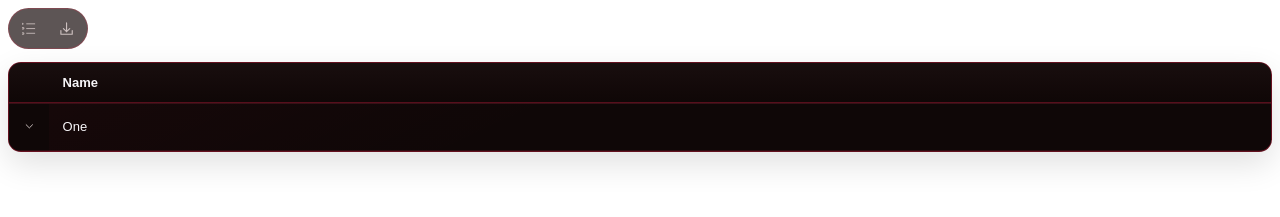
Test: secondary feedback contract audit › offers reset when only row density or details changed and restores both
The width and height of the screenshot is (1280, 217).
Click the button named "Компактные строки" at {"x": 29, "y": 29}, box [11,11,46,46]
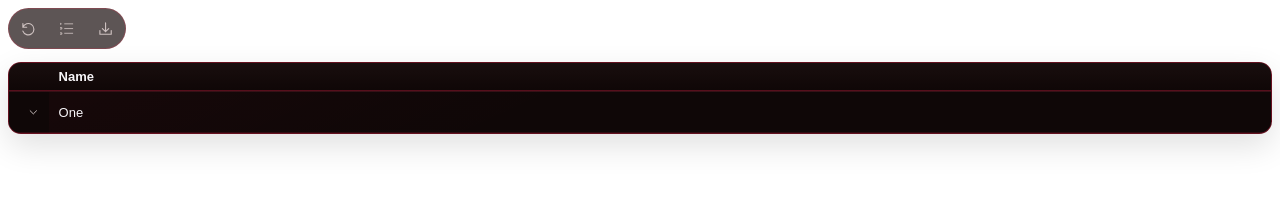
Now the button named "Сбросить вид" is shown, box [11,11,46,46]
Click the button named "Подробности строки 1" at {"x": 33, "y": 112}, box [19,98,47,127]
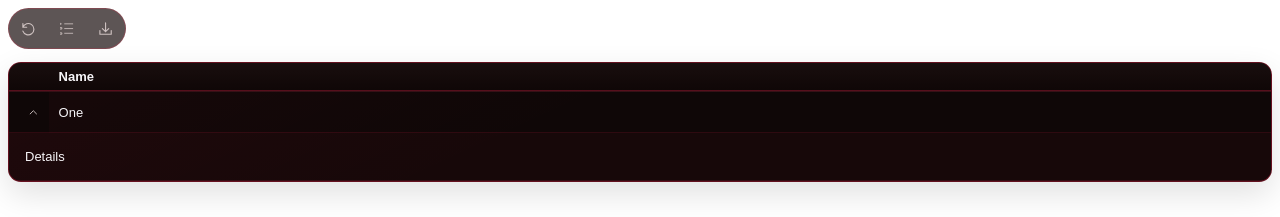
Click the button named "Сбросить вид" at {"x": 29, "y": 29}, box [11,11,46,46]
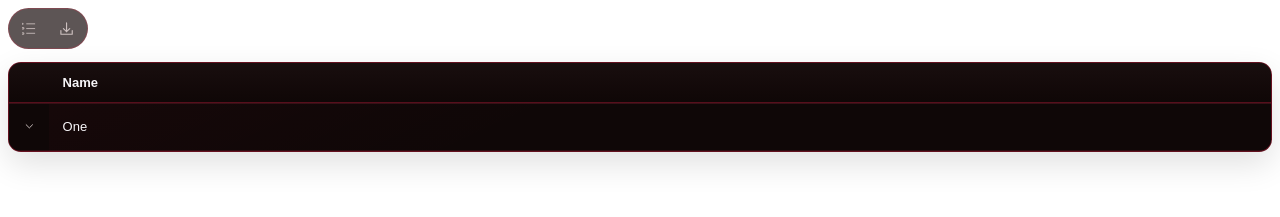
Now no rows are shown
